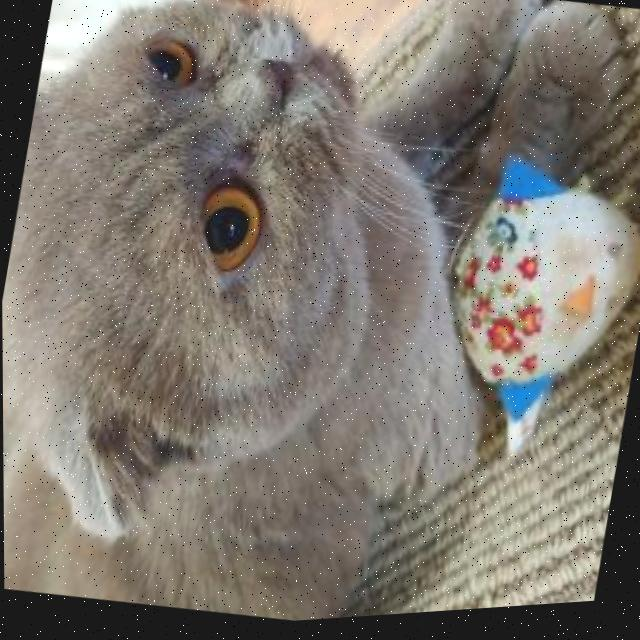Scottish Fold: (0, 0, 635, 640)
